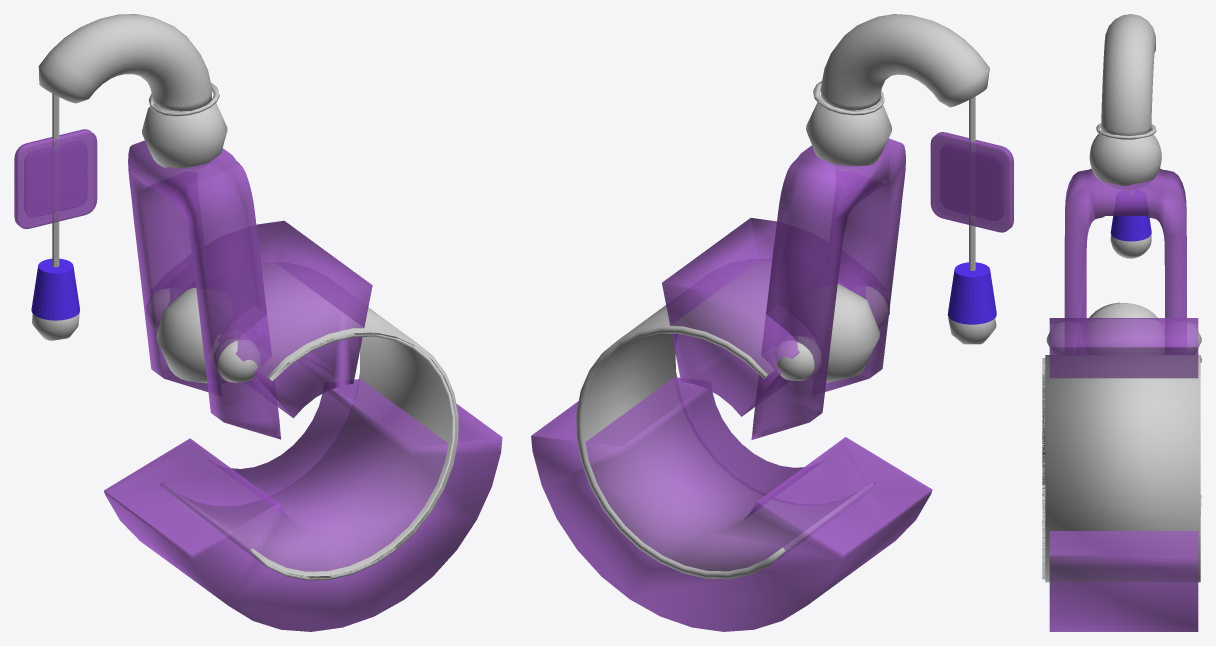
Rendered from desen_tool.obj.
3 renders of one model, left to right at view 1: azimuth 30°, elevation 25°; view 2: azimuth 150°, elevation 25°; view 3: azimuth 270°, elevation 25°, orthographic. The views are drawn at different scales.
Visible parts, largest first — view 1: Circle.072_Material.4, Circle.072_shiny1, Circle.072_Material.014, Circle.072_metal; view 2: Circle.072_Material.4, Circle.072_shiny1, Circle.072_Material.014, Circle.072_metal; view 3: Circle.072_shiny1, Circle.072_Material.4, Circle.072_Material.014, Circle.072_metal.
Boxes of the visible parts, bbox=[...] form: Circle.072_Material.4: bbox=[14, 129, 502, 631]; Circle.072_shiny1: bbox=[38, 14, 458, 580]; Circle.072_Material.014: bbox=[31, 258, 79, 320]; Circle.072_metal: bbox=[32, 313, 79, 340]; Circle.072_Material.4: bbox=[531, 132, 1013, 631]; Circle.072_shiny1: bbox=[576, 14, 989, 579]; Circle.072_Material.014: bbox=[947, 262, 996, 324]; Circle.072_metal: bbox=[948, 317, 996, 344]; Circle.072_shiny1: bbox=[1042, 14, 1201, 582]; Circle.072_Material.4: bbox=[1049, 168, 1198, 631]; Circle.072_Material.014: bbox=[1110, 216, 1151, 241]; Circle.072_metal: bbox=[1110, 235, 1151, 258].
Bounding box in the file's own units: 20.72 × 27.93 × 7.76.
